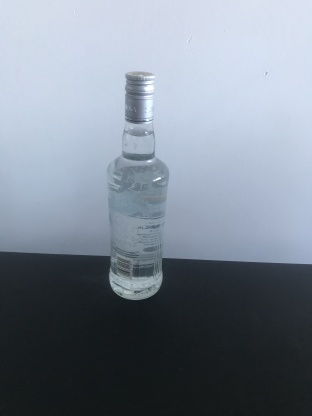nakretka: (123, 69, 156, 124)
